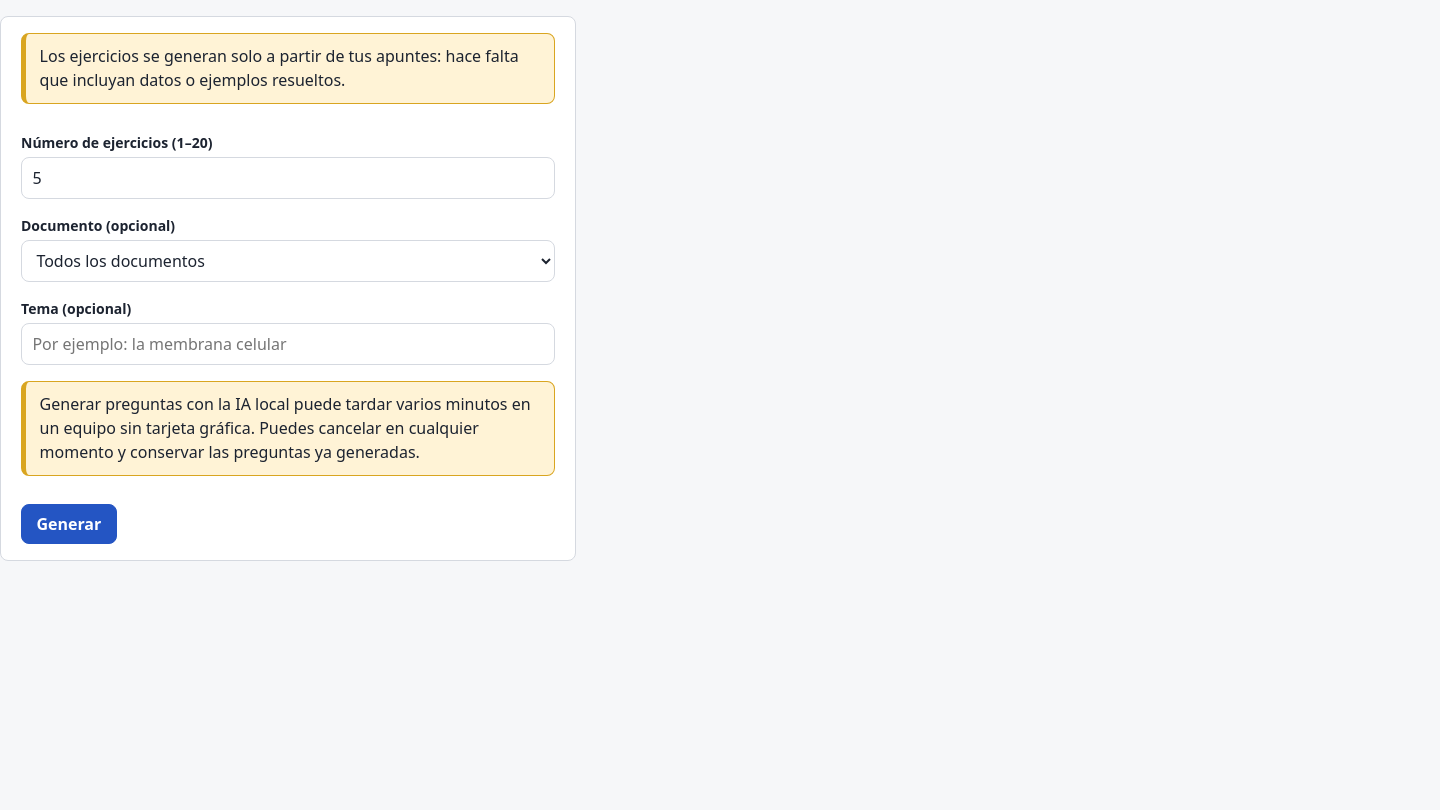
Test case: Ejercicios: sin material › un ejercicio sin cita no se muestra (misma regla que el test)
Click the button "Generar" at {"x": 69, "y": 524}, box [21,504,117,544]
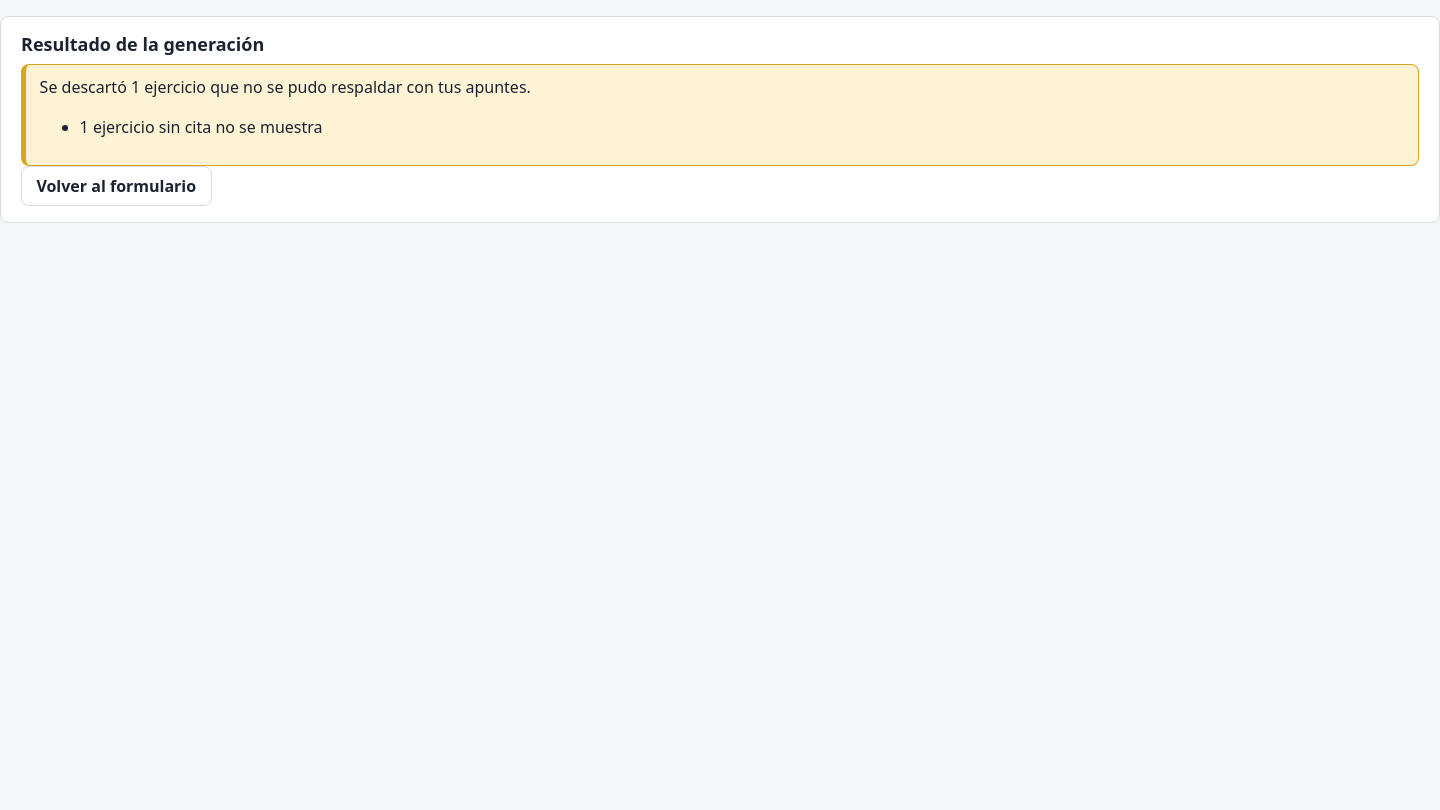
Now the list item "1 ejercicio sin cita no se muestra" is shown, box [80,116,323,138]
